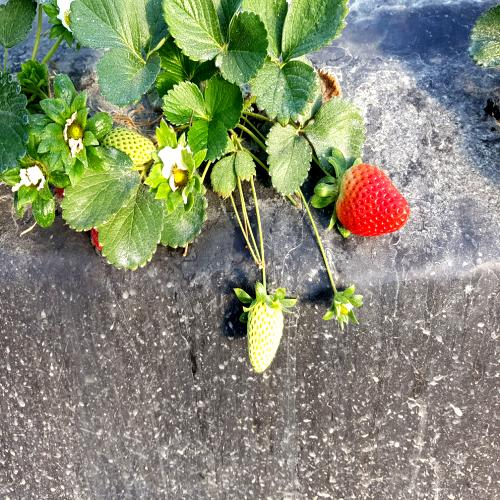ripe: (327, 146, 414, 252)
unripe: (242, 285, 286, 374)
